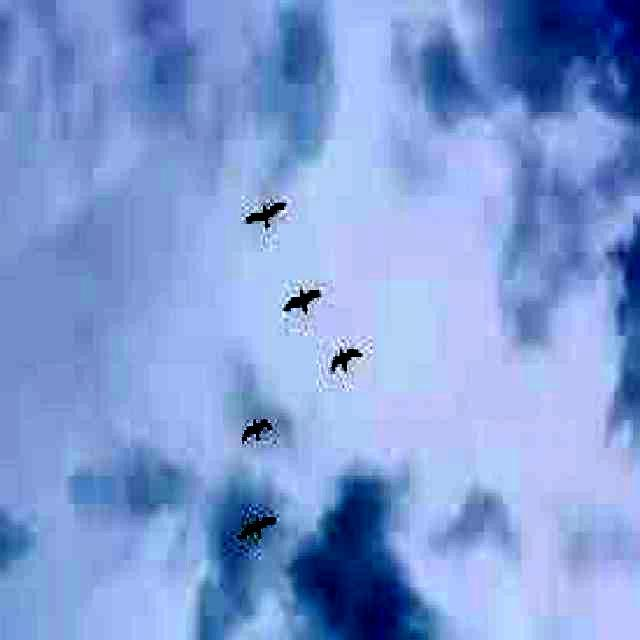bird: (236, 182, 297, 242), (226, 498, 280, 552), (233, 399, 280, 450), (278, 281, 326, 322), (322, 338, 370, 377)
